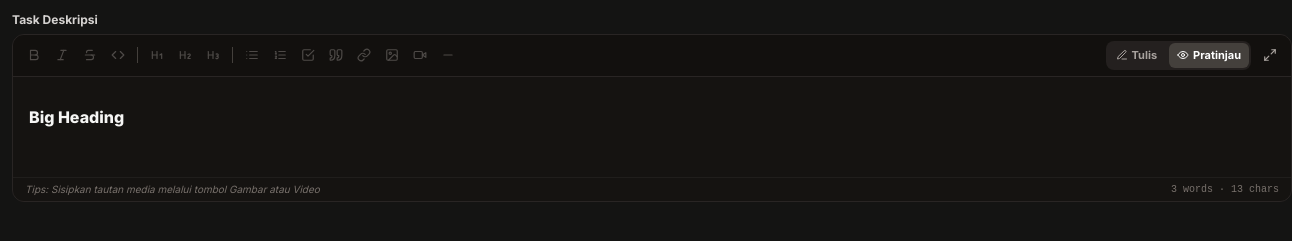
RichTextEditor Molecule › switches between Preview and Write tabs and defaults to pratinjau
The image size is (1292, 241).
Check: the heading reads "Big Heading", box [29,106,124,126]
What coordinates should you click on to do the following:
click the button "Tulis"
I would click on:
 (1136, 55)
Its box is [1108,43,1165,68].
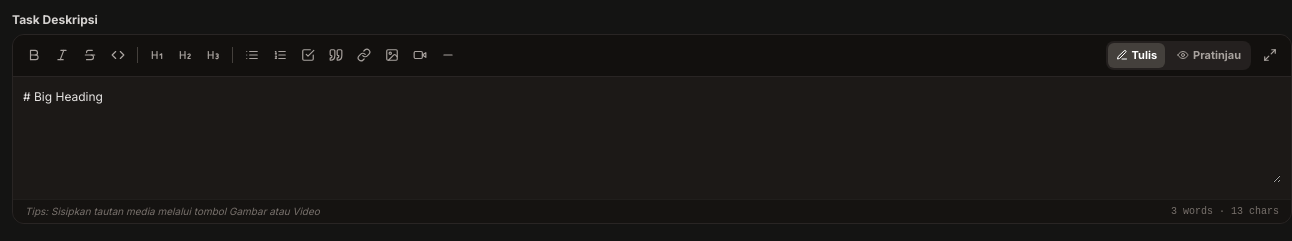
Check: the text box showing "# Big Heading" is shown, box [23,86,1281,182]
What coordinates should you click on to do the following:
click the button "Pratinjau"
I would click on:
 (1209, 55)
Its box is [1169,43,1249,68].
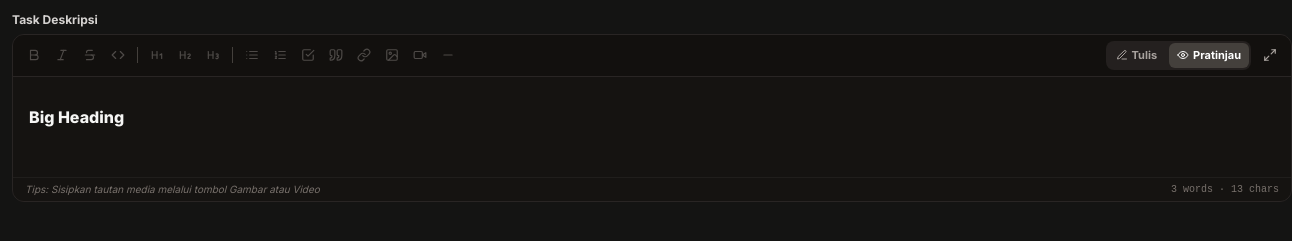
Check: the heading reads "Big Heading", box [29,106,124,126]
